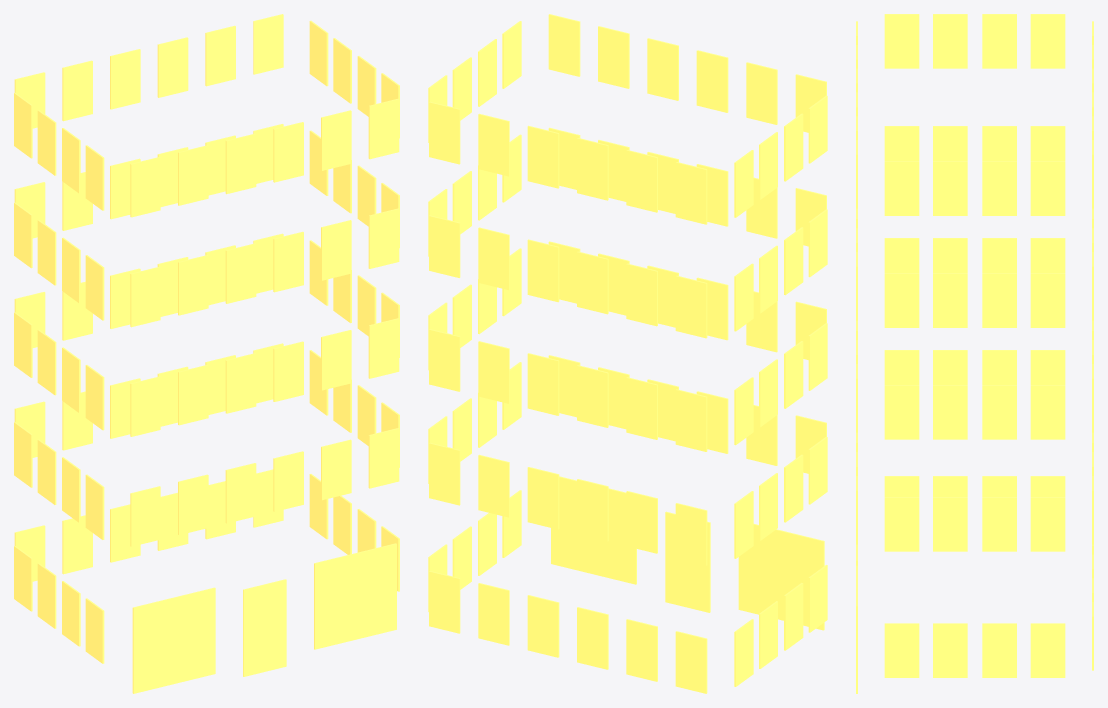
Rendered from Apartment_Glow.glb.
3 renders of one model, left to right at view 1: azimuth 30°, elevation 25°; view 2: azimuth 150°, elevation 25°; view 3: azimuth 270°, elevation 25°, orthographic. The views are drawn at different scales.
Parts seen in each view (by area): view 1: Apartment_Glow; view 2: Apartment_Glow; view 3: Apartment_Glow.
Part boxes in pixels (x1,y1,x2,y2): Apartment_Glow: [14, 14, 399, 693]; Apartment_Glow: [428, 14, 827, 693]; Apartment_Glow: [856, 14, 1093, 693].
Size of the model in its own units: 31.16 by 54.1 by 21.16.
